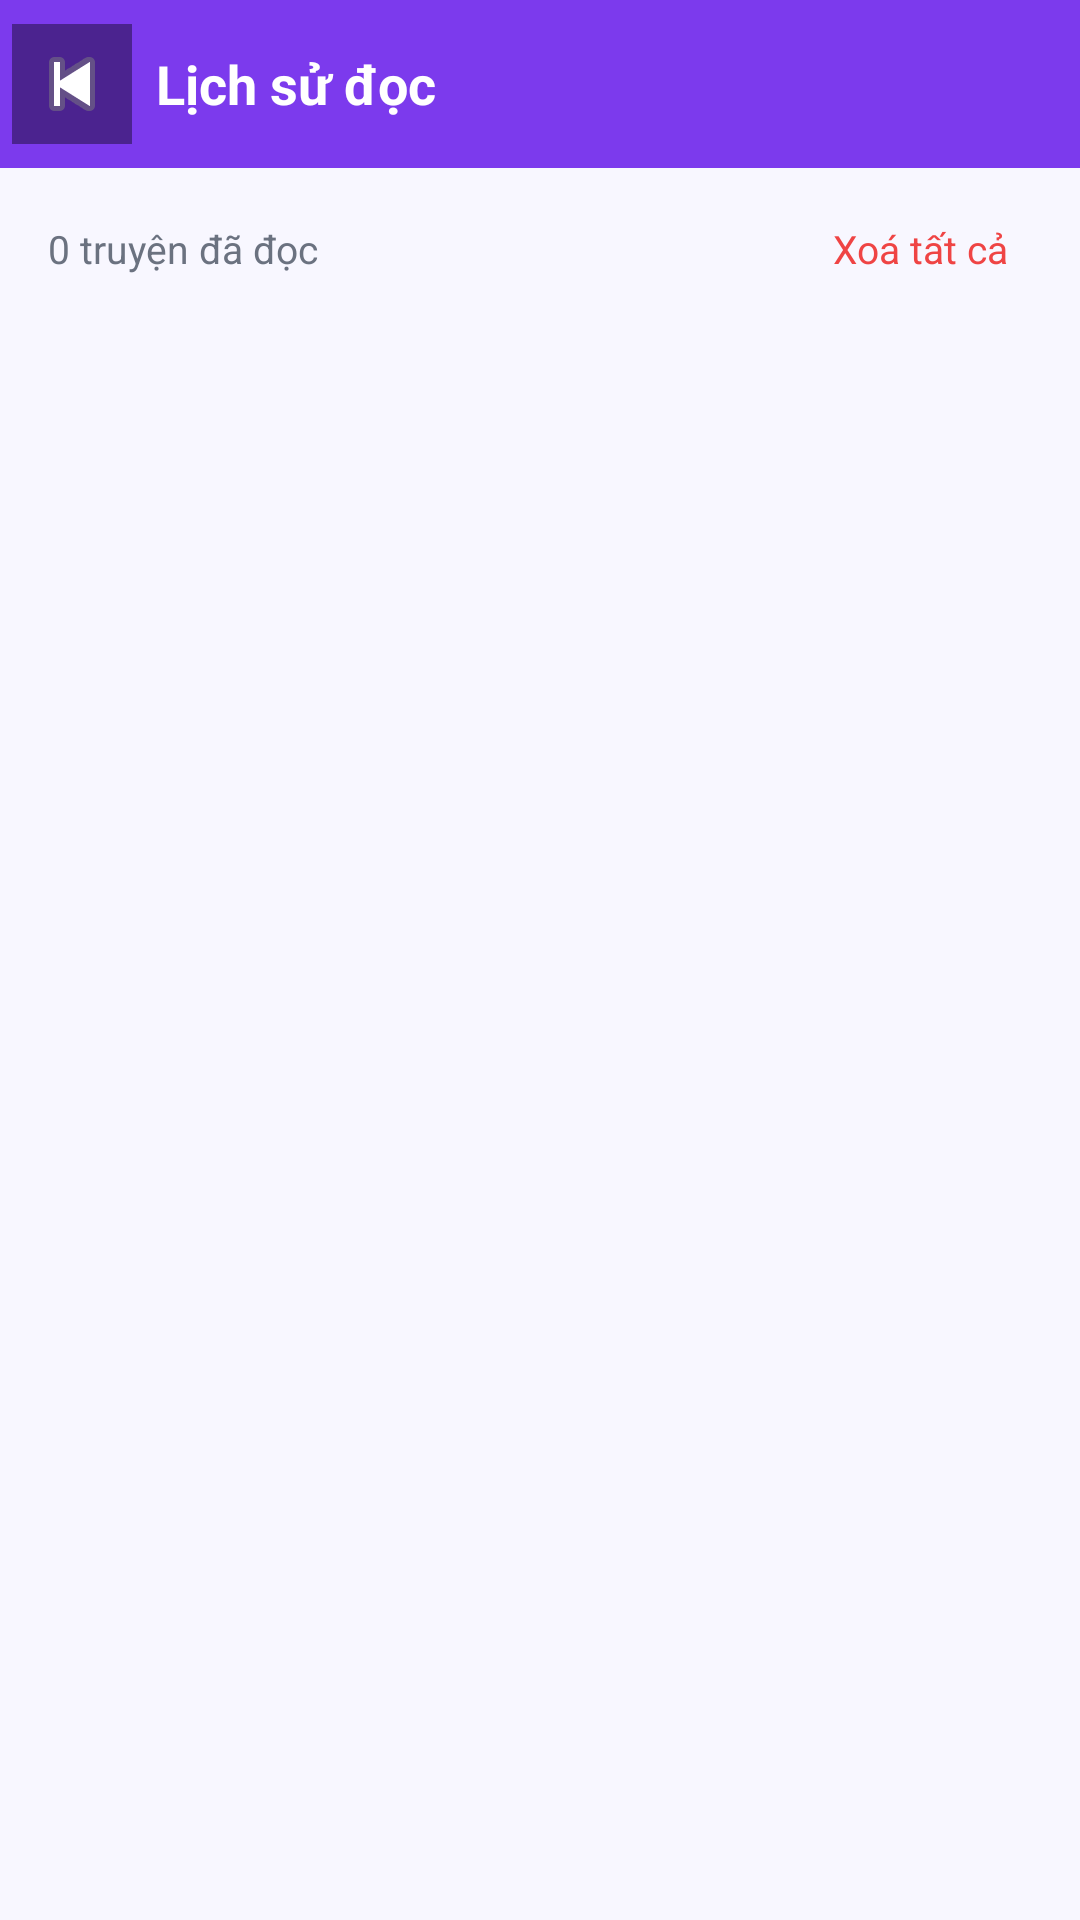

Locate icon controls on the screen. Image size 1080px×1920px, boxes as (x1, y1, x2, y2).
Quay lại: (12, 24, 132, 144)
